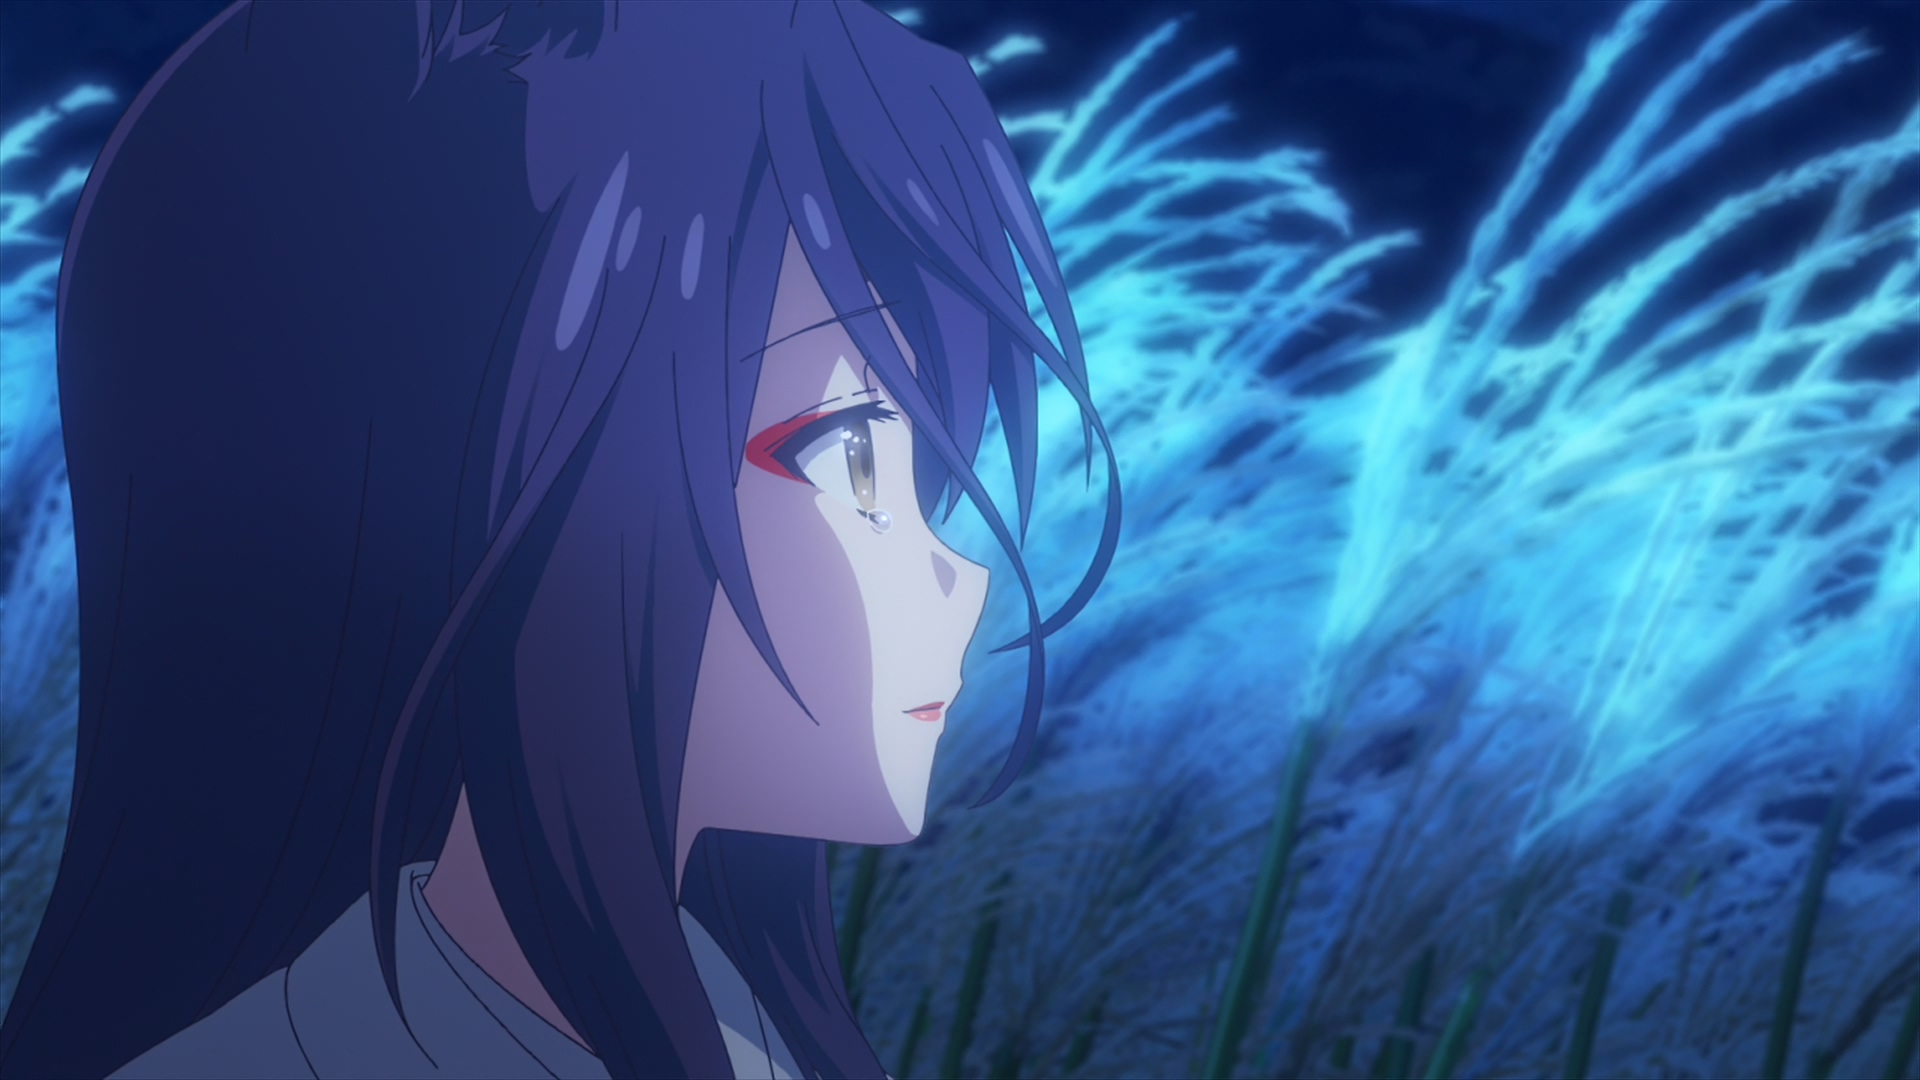皋: (1, 1, 1124, 1080)
